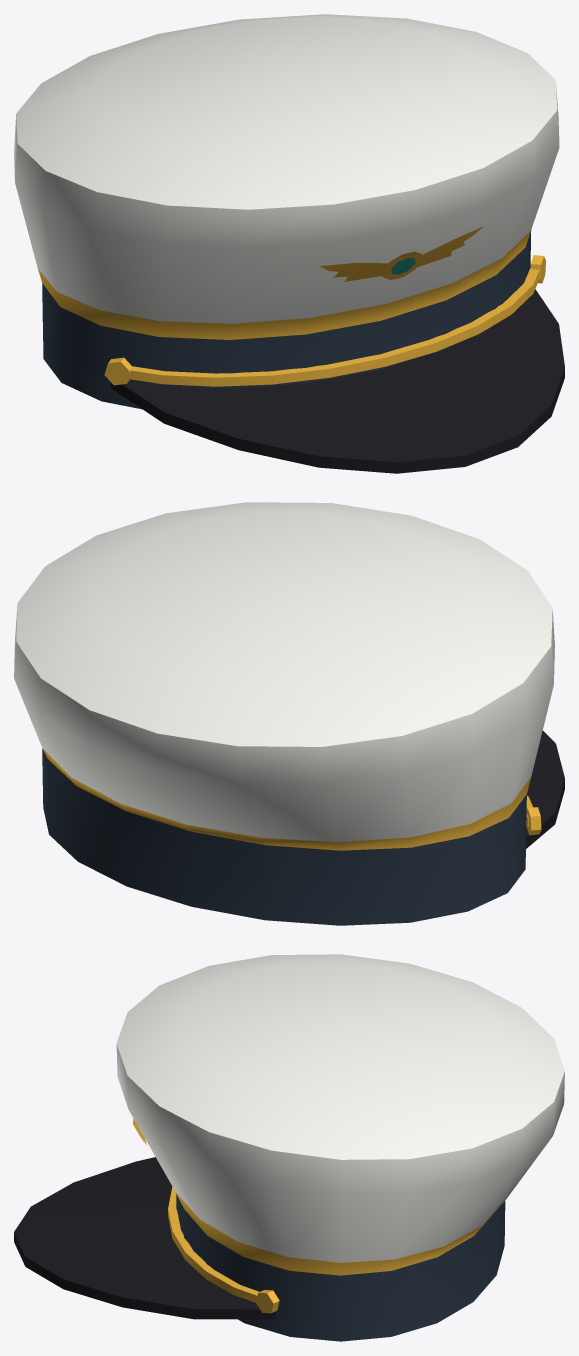
The model's file is GorraPiloto.fbx.
The picture shows the model from 3 angles, top to bottom: view 1: azimuth 30°, elevation 25°; view 2: azimuth 150°, elevation 25°; view 3: azimuth 270°, elevation 25°; orthographic projection. The views are drawn at different scales.
Visible parts, largest first — view 1: GorraPiloto; view 2: GorraPiloto; view 3: GorraPiloto.
Boxes of the visible parts, x1,y1,x2,y2 form: GorraPiloto: (14,14,564,473); GorraPiloto: (14,502,564,925); GorraPiloto: (14,954,564,1341).
Bounding box in the file's own units: 1.6 × 0.79 × 1.79.
1 material, 1 textured.
